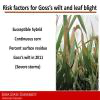Corn leaf blight: (75, 24, 93, 78), (63, 15, 73, 86), (84, 35, 99, 63), (71, 49, 80, 91), (68, 26, 75, 68)
